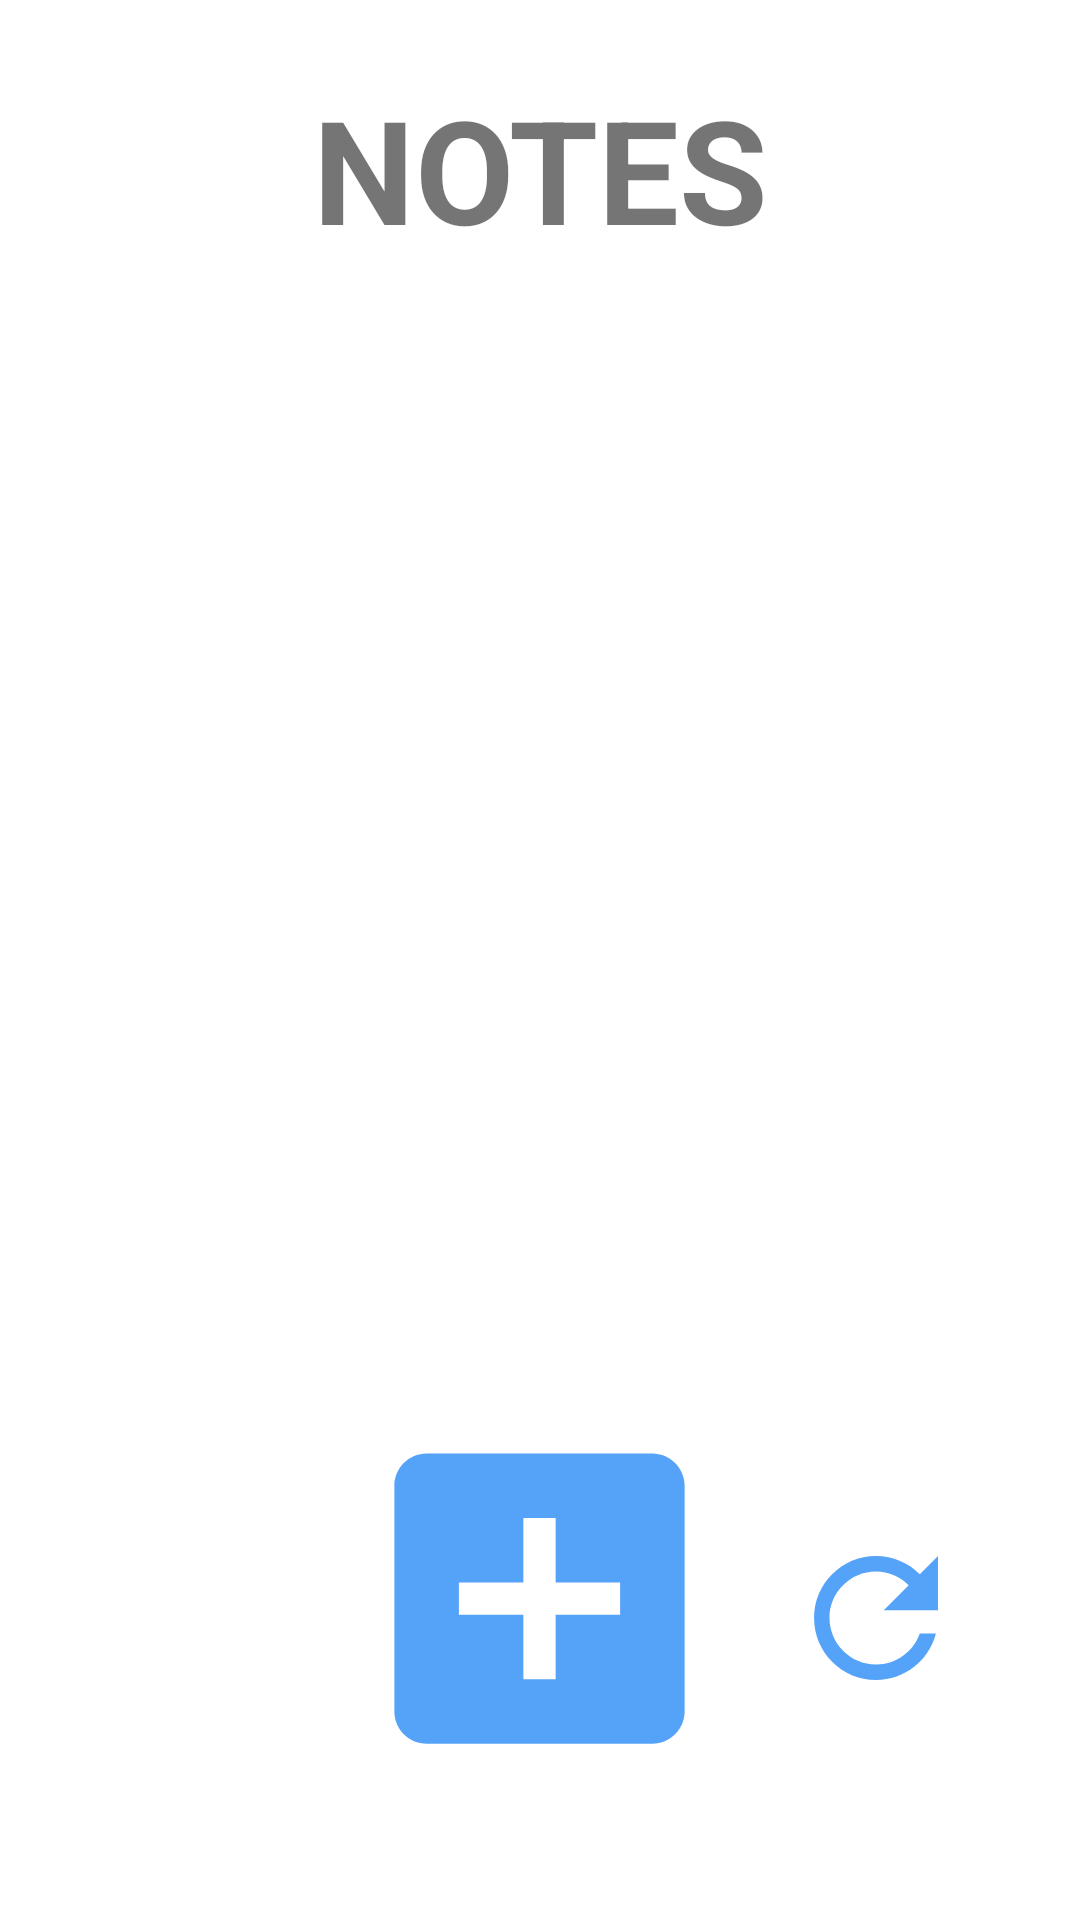

Icons on this 1080*1920 Android screen, each with the point to tap as [x,y]:
add box: [539,1598]
refresh: [876,1618]
